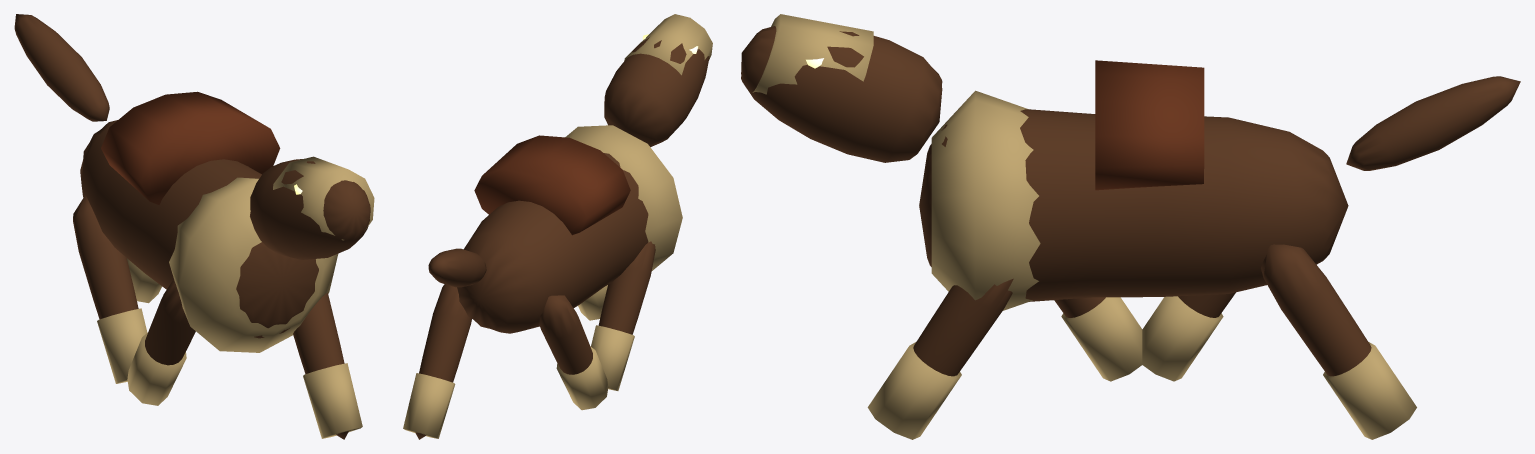
The model's file is mount_horse.glb.
3 renders of one model, left to right at view 1: azimuth 30°, elevation 25°; view 2: azimuth 150°, elevation 25°; view 3: azimuth 270°, elevation 25°, orthographic. The views are drawn at different scales.
Parts seen in each view (by area): view 1: Torso, Breastplate, Saddle, NeckHead, Tail.001, Leg_BL, Greave_FR, Chamfron, Leg_FR, Leg_FL, Greave_BL, Greave_FL (+1 smaller); view 2: Torso, Saddle, NeckHead, Breastplate, Leg_BR, Leg_BL, Leg_FL, Chamfron, Greave_BR, Tail.001, Greave_FL, Greave_BL (+1 smaller); view 3: Torso, Breastplate, NeckHead, Saddle, Tail.001, Leg_BR, Leg_FR, Chamfron, Greave_FR, Greave_BR, Greave_BL, Greave_FL (+1 smaller).
Part boxes in pixels (<box>): Torso: <box>80,120,318,338</box>; Breastplate: <box>169,177,338,352</box>; Saddle: <box>101,91,280,204</box>; NeckHead: <box>250,159,370,259</box>; Tail.001: <box>14,14,109,121</box>; Leg_BL: <box>73,195,138,319</box>; Greave_FR: <box>303,363,362,438</box>; Chamfron: <box>273,156,374,240</box>; Leg_FR: <box>293,293,348,439</box>; Leg_FL: <box>145,281,195,365</box>; Greave_BL: <box>97,308,147,383</box>; Greave_FL: <box>127,332,186,405</box>; Torso: <box>457,153,648,333</box>; Saddle: <box>474,135,630,235</box>; NeckHead: <box>604,37,709,146</box>; Breastplate: <box>565,125,682,270</box>; Leg_BR: <box>415,284,471,439</box>; Leg_BL: <box>539,295,592,374</box>; Leg_FL: <box>598,241,655,334</box>; Chamfron: <box>624,14,712,75</box>; Greave_BR: <box>403,373,455,438</box>; Tail.001: <box>428,248,486,287</box>; Greave_FL: <box>591,325,634,390</box>; Greave_BL: <box>556,346,608,410</box>; Torso: <box>919,109,1348,301</box>; Breastplate: <box>931,90,1040,310</box>; NeckHead: <box>741,26,942,162</box>; Saddle: <box>1095,60,1204,190</box>; Tail.001: <box>1346,76,1520,170</box>; Leg_BR: <box>1261,244,1371,376</box>; Leg_FR: <box>913,278,1013,376</box>; Chamfron: <box>750,14,873,94</box>; Greave_FR: <box>867,342,961,439</box>; Greave_BR: <box>1323,342,1416,439</box>; Greave_BL: <box>1142,296,1223,381</box>; Greave_FL: <box>1061,297,1142,381</box>.
Size of the model in its own units: 0.62 by 1.18 by 2.15.
4 materials, 4 textured.
